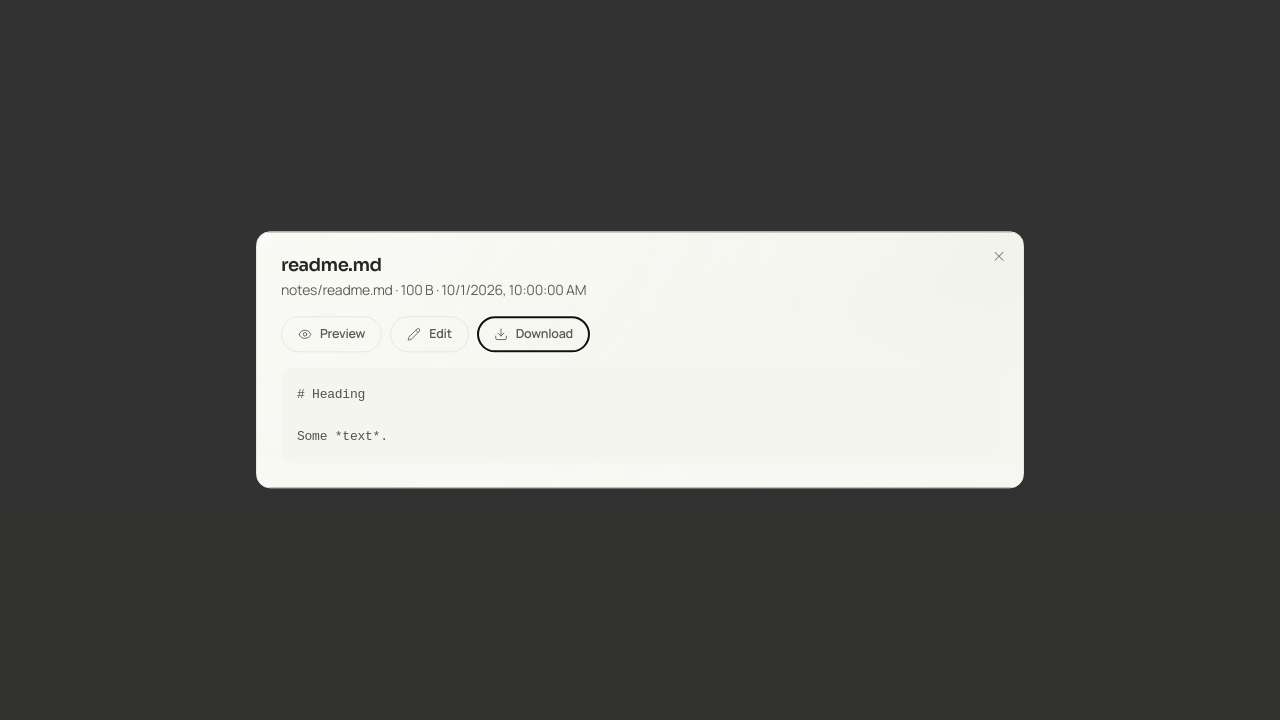
Test: StorageFileDialog › keeps the markdown preview off until it is toggled
This screenshot has width=1280, height=720.
Expected: the text with test id "text-content" shows "# Heading", [297,387,388,445]
Click the button "Preview": point(332, 334) [281,316,382,352]
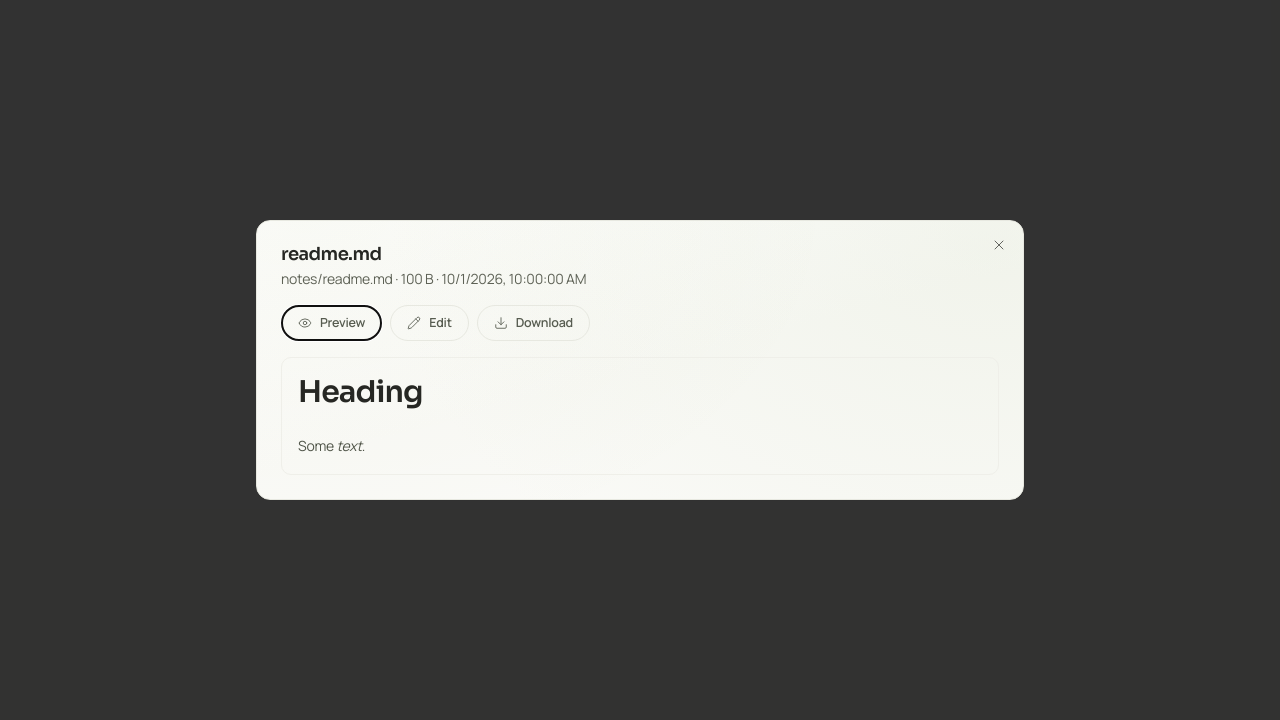
Expected: the heading "Heading" is shown, [298,373,423,411]
Result: the text with test id "text-content" is gone
While editing, the preview follows the draft, side by side.
Click the button "Edit": point(429, 323) [390,305,469,341]
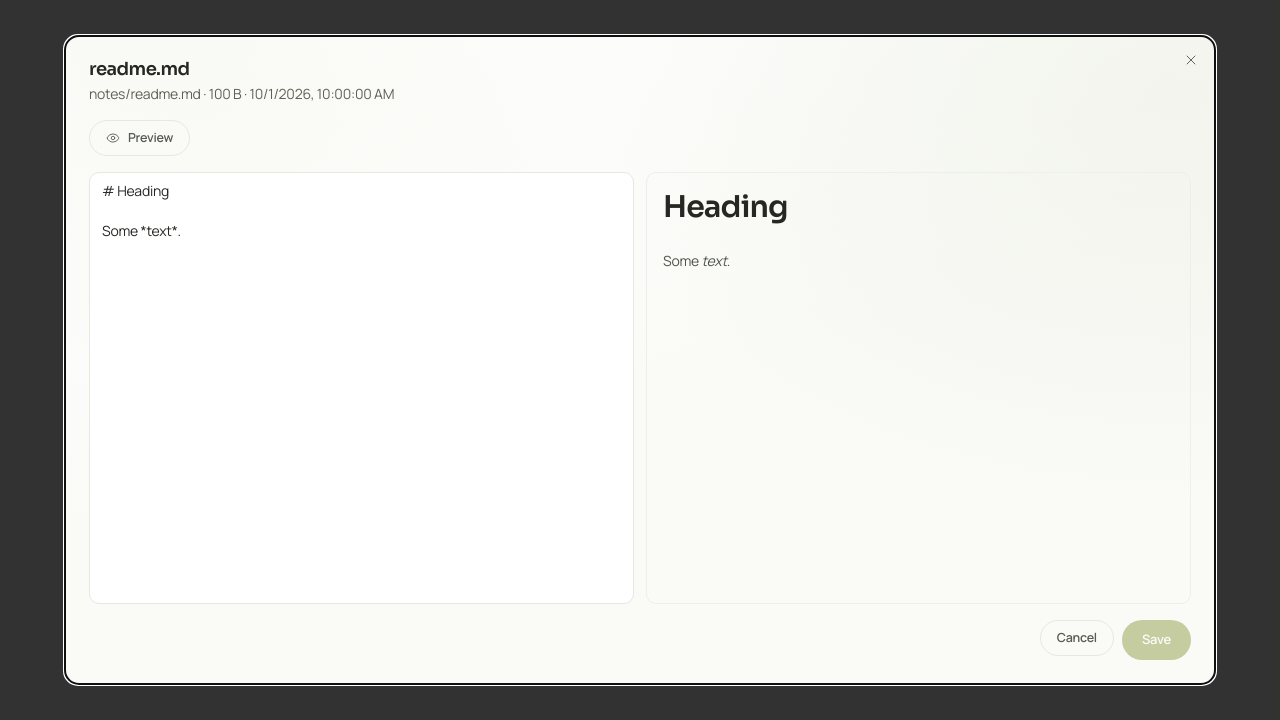
Replace the text in the text box named "File content" with "## Changed": point(362, 388) [89,172,634,604]
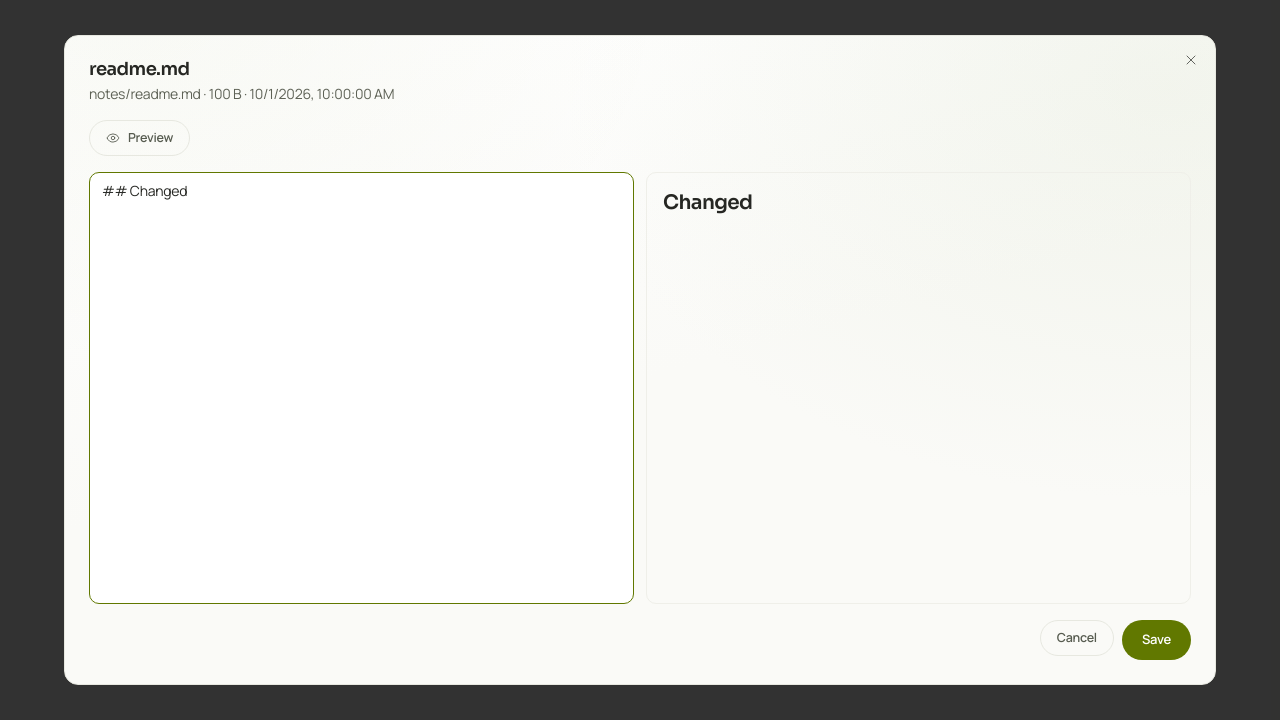
Result: the heading "Changed" is shown at [663,190,752,215]
